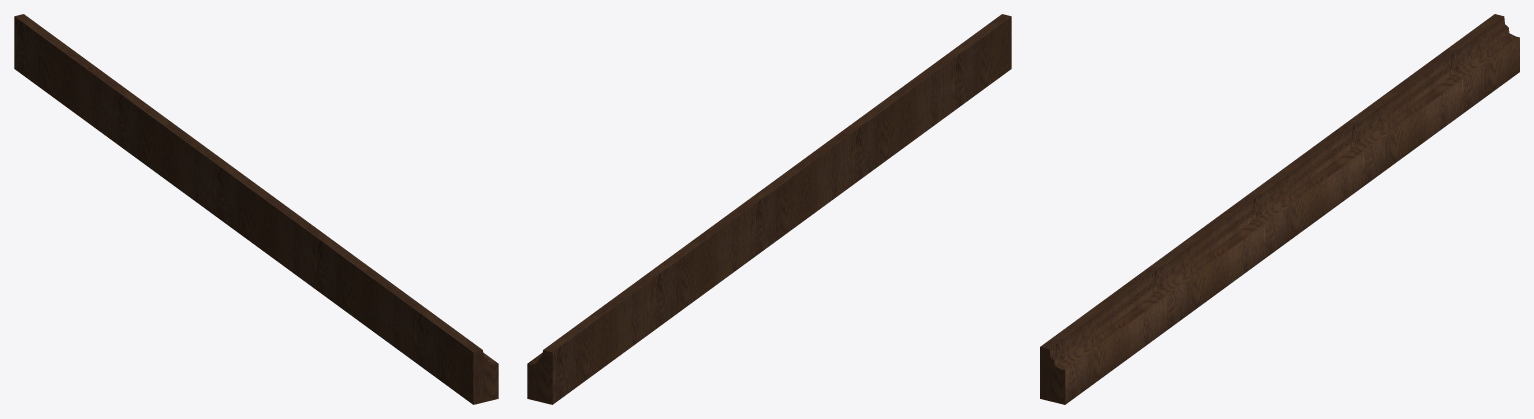
File: souptrim004.obj
The picture shows the model from 3 angles, left to right: view 1: azimuth 30°, elevation 25°; view 2: azimuth 150°, elevation 25°; view 3: azimuth 330°, elevation 25°; orthographic projection.
Visible parts, largest first — view 1: souptrim004_high_1; view 2: souptrim004_high_1; view 3: souptrim004_high_1.
Part boxes in pixels (x1,y1,x2,y2): souptrim004_high_1: (14,14,498,404); souptrim004_high_1: (527,14,1011,404); souptrim004_high_1: (1040,14,1519,404).
Bounding box in the file's own units: 0.0861 × 0.1712 × 2.71.
